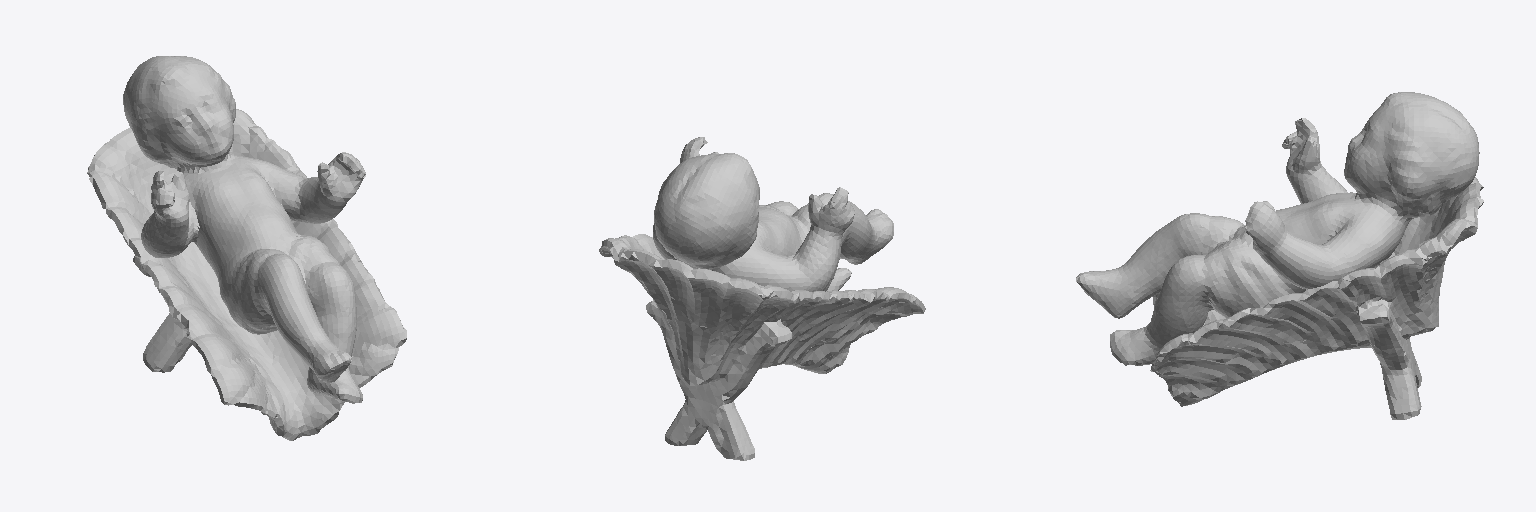
File: Gesu con mangiatoia.obj
The picture shows the model from 3 angles: view 1: azimuth 30°, elevation 25°; view 2: azimuth 150°, elevation 25°; view 3: azimuth 270°, elevation 25°; orthographic projection.
Visible parts, largest first — view 1: MVFC3832b_menino_LP1, MVFC3832a_manjedoura_LP1; view 2: MVFC3832a_manjedoura_LP1, MVFC3832b_menino_LP1; view 3: MVFC3832b_menino_LP1, MVFC3832a_manjedoura_LP1.
Boxes of the visible parts, x1,y1,x2,y2 form: MVFC3832b_menino_LP1: [123, 56, 365, 403]; MVFC3832a_manjedoura_LP1: [87, 109, 406, 440]; MVFC3832a_manjedoura_LP1: [599, 234, 925, 460]; MVFC3832b_menino_LP1: [653, 137, 893, 291]; MVFC3832b_menino_LP1: [1076, 92, 1479, 365]; MVFC3832a_manjedoura_LP1: [1150, 177, 1483, 419].
Size of the model in its own units: 0.0717 by 0.1077 by 0.1325.